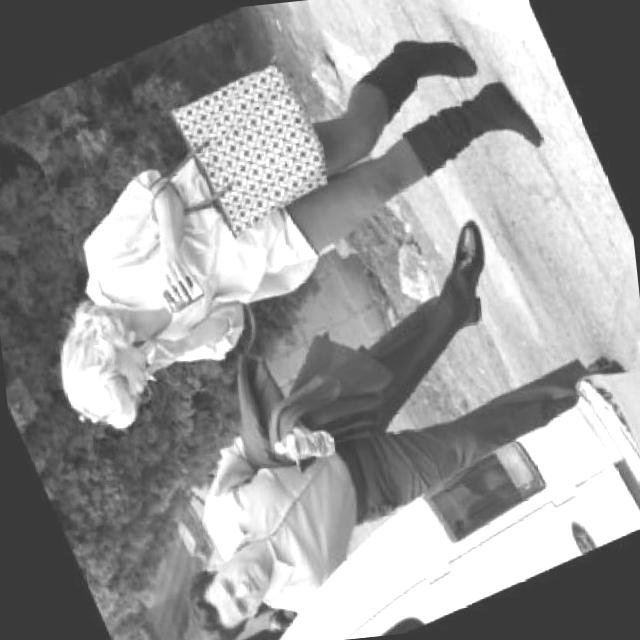cigarette: (142, 365, 160, 385)
